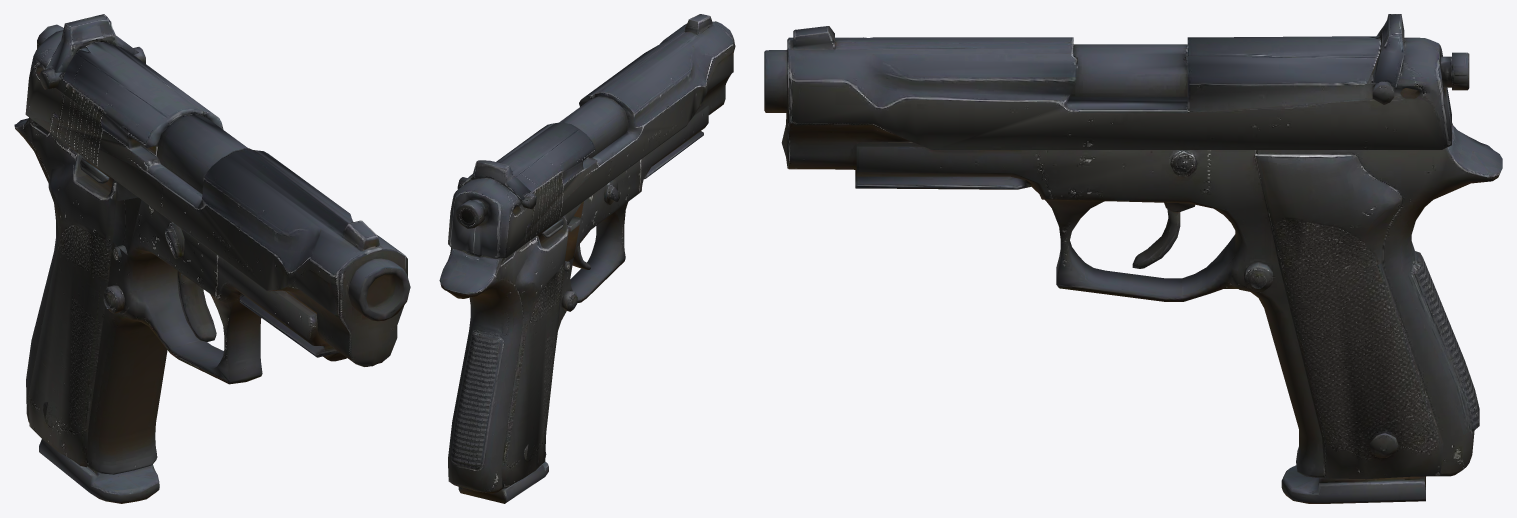
Rendered from pistol.glb.
The picture shows the model from 3 angles, left to right: view 1: azimuth 30°, elevation 25°; view 2: azimuth 150°, elevation 25°; view 3: azimuth 270°, elevation 25°; orthographic projection. The views are drawn at different scales.
Parts seen in each view (by area): view 1: pistol; view 2: pistol; view 3: pistol.
Part boxes in pixels (<box>): pistol: <box>14,14,410,503</box>; pistol: <box>439,14,735,503</box>; pistol: <box>764,14,1502,503</box>.
Bounding box in the file's own units: 0.0476 × 0.21 × 0.3006.
Materials: 1 (1 with a texture image).
